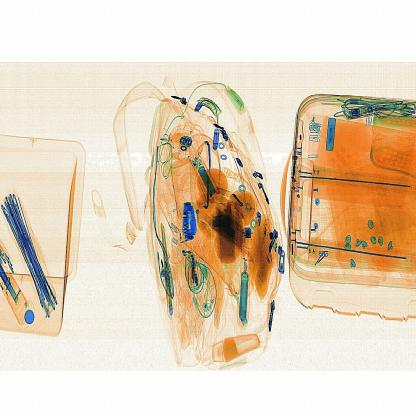scissors: (174, 197, 206, 244)
